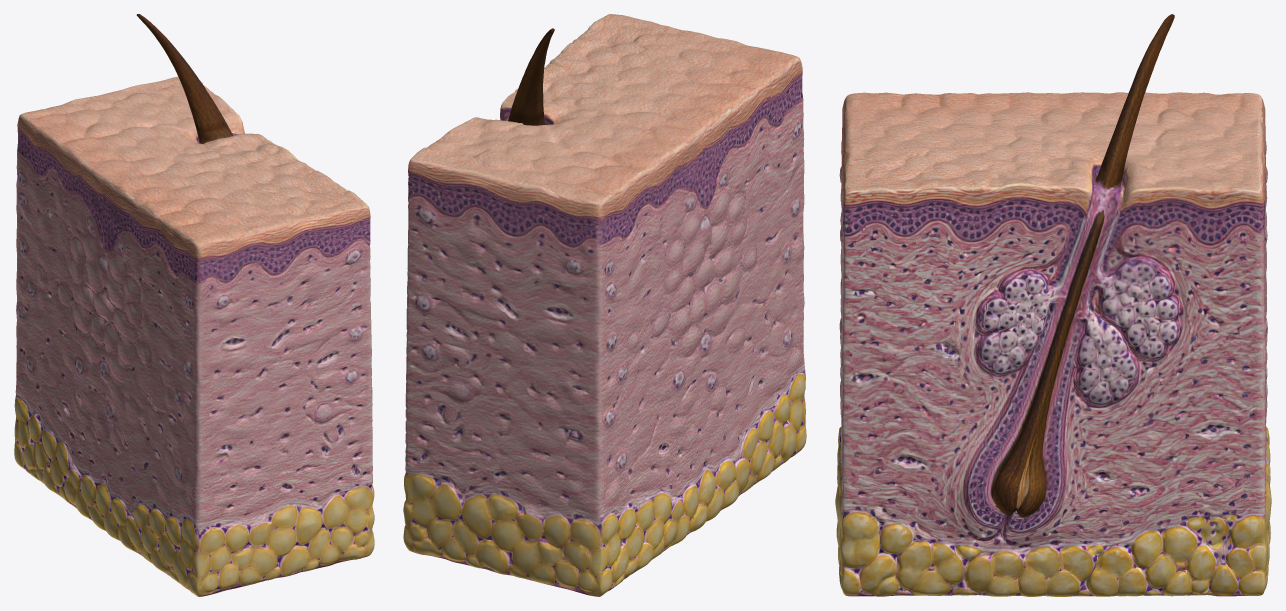
File: pele_fina_ia_a.glb
3 renders of one model, left to right at view 1: azimuth 30°, elevation 25°; view 2: azimuth 150°, elevation 25°; view 3: azimuth 270°, elevation 25°, orthographic. The views are drawn at different scales.
Visible parts, largest first — view 1: tripo_node_649a03d1-c0fb-4279-af20-89b499844313; view 2: tripo_node_649a03d1-c0fb-4279-af20-89b499844313; view 3: tripo_node_649a03d1-c0fb-4279-af20-89b499844313.
Part boxes in pixels (x1,y1,x2,y2): tripo_node_649a03d1-c0fb-4279-af20-89b499844313: (14,14,374,596); tripo_node_649a03d1-c0fb-4279-af20-89b499844313: (403,14,806,596); tripo_node_649a03d1-c0fb-4279-af20-89b499844313: (835,14,1271,596).
Size of the model in its own units: 0.4896 by 1 by 0.7435.
Materials: 1 (1 with a texture image).
